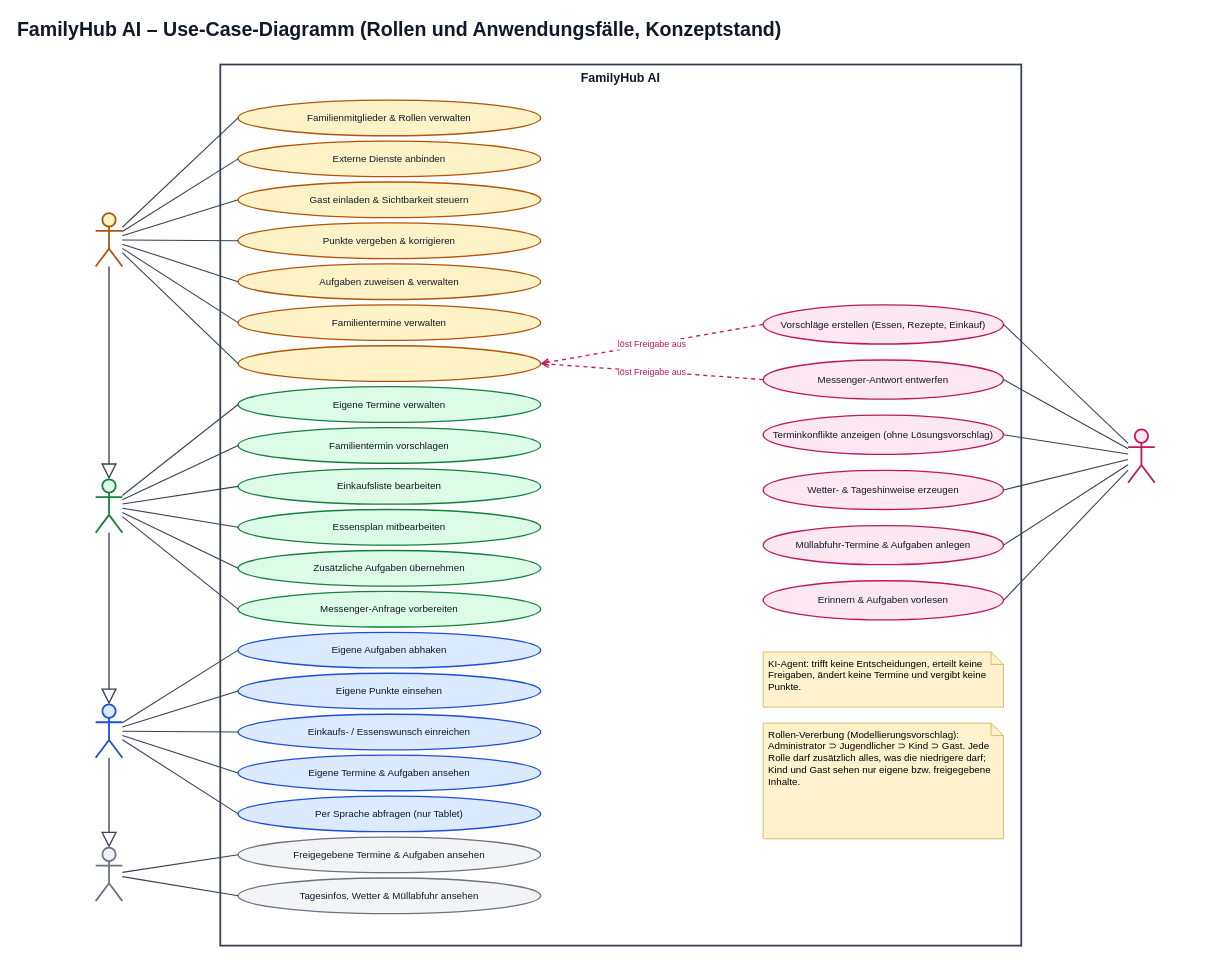
The diagram is 1221 pixels wide and 961 high, and some of its shapes have lost their labels. The shapes that lost their labels are listed below. From the top down, each one's box as (x1, y1, x2, y2) in pixels, then its label:
(94, 212, 123, 267): Administrator (Eltern)
(237, 345, 541, 382): Vorschläge freigeben / ablehnen
(1127, 428, 1155, 483): KI-Agent
(94, 478, 123, 533): Jugendlicher
(94, 703, 123, 758): Kind
(94, 846, 123, 902): Gast
